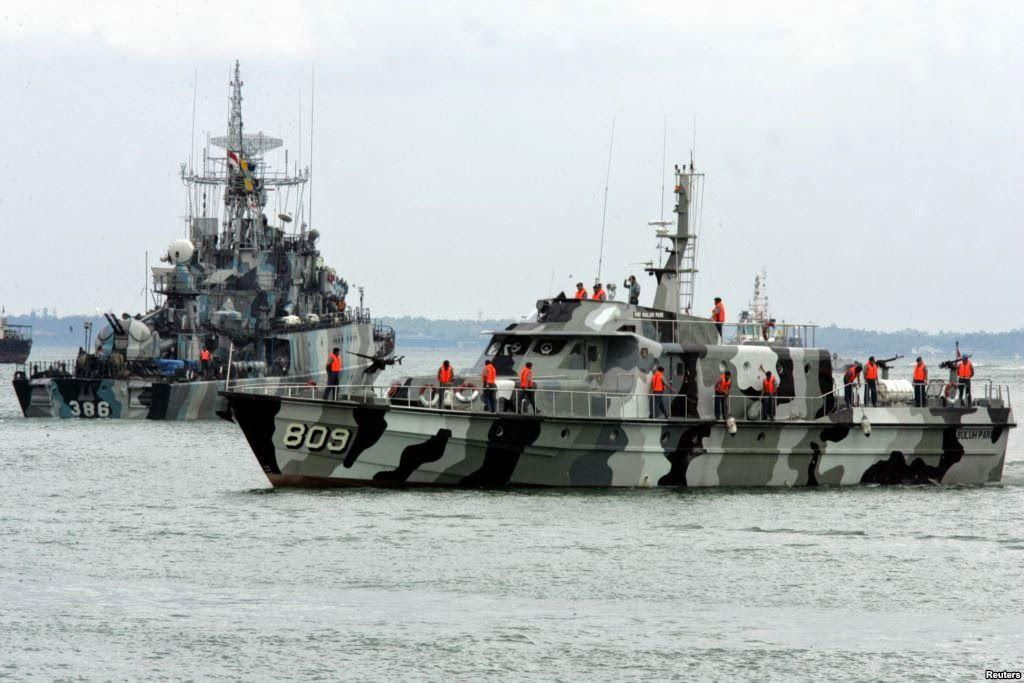Warship: (219, 147, 1015, 491), (12, 59, 398, 422)
